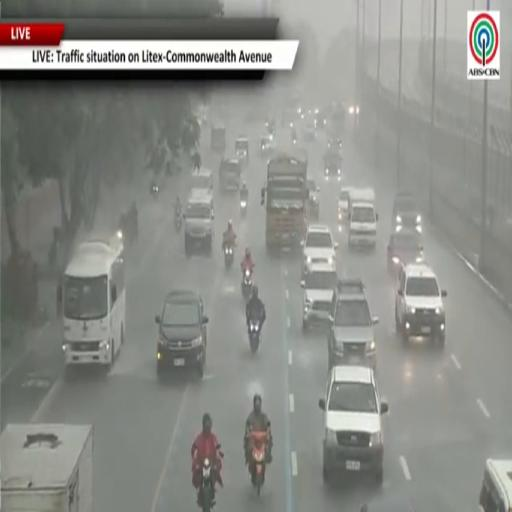bus: (60, 234, 125, 366)
car: (319, 366, 388, 484), (155, 291, 208, 378), (328, 279, 378, 369), (396, 263, 446, 347), (301, 264, 337, 330), (183, 190, 214, 255), (301, 224, 338, 276), (479, 459, 511, 511), (388, 231, 423, 274), (392, 191, 422, 233), (361, 494, 418, 511), (219, 157, 241, 191), (338, 187, 353, 231), (306, 179, 320, 219), (324, 150, 342, 181), (191, 168, 213, 191), (211, 123, 226, 152), (235, 135, 249, 166), (259, 135, 276, 156), (328, 136, 342, 153), (303, 123, 316, 141)
motorcycle: (250, 431, 268, 495), (199, 458, 218, 511), (200, 458, 215, 511), (249, 319, 260, 353), (242, 268, 253, 302), (224, 246, 233, 268), (174, 211, 182, 231), (240, 199, 247, 216), (150, 185, 159, 198), (293, 138, 296, 145)
truck: (0, 424, 93, 511), (261, 150, 308, 249)
